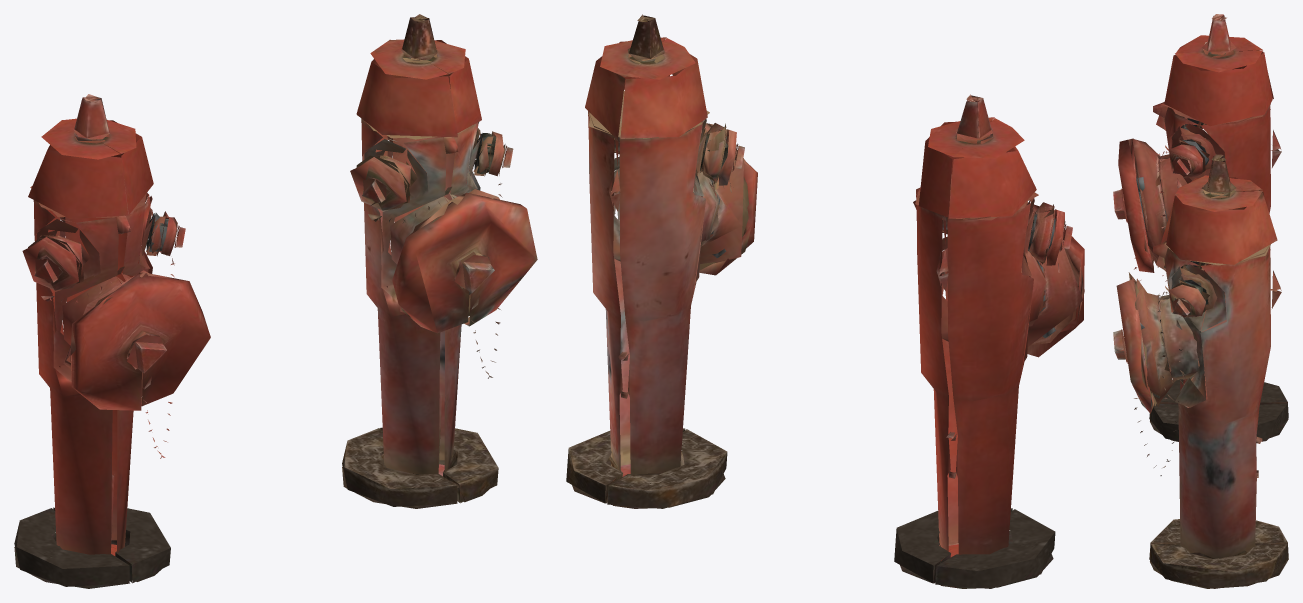
Rendered from fire_hydrant.glb.
3 renders of one model, left to right at view 1: azimuth 30°, elevation 25°; view 2: azimuth 150°, elevation 25°; view 3: azimuth 270°, elevation 25°, orthographic. The views are drawn at different scales.
Parts seen in each view (by area): view 1: fire_hydrant; view 2: fire_hydrant; view 3: fire_hydrant.
Boxes of the visible parts, box(x1,y1,x2,y2) form: fire_hydrant: box(14, 14, 537, 588); fire_hydrant: box(566, 14, 1084, 588); fire_hydrant: box(1113, 14, 1288, 588).
Bounding box in the file's own units: 0.8777 × 0.8005 × 0.3173.
2 materials, 2 textured.
